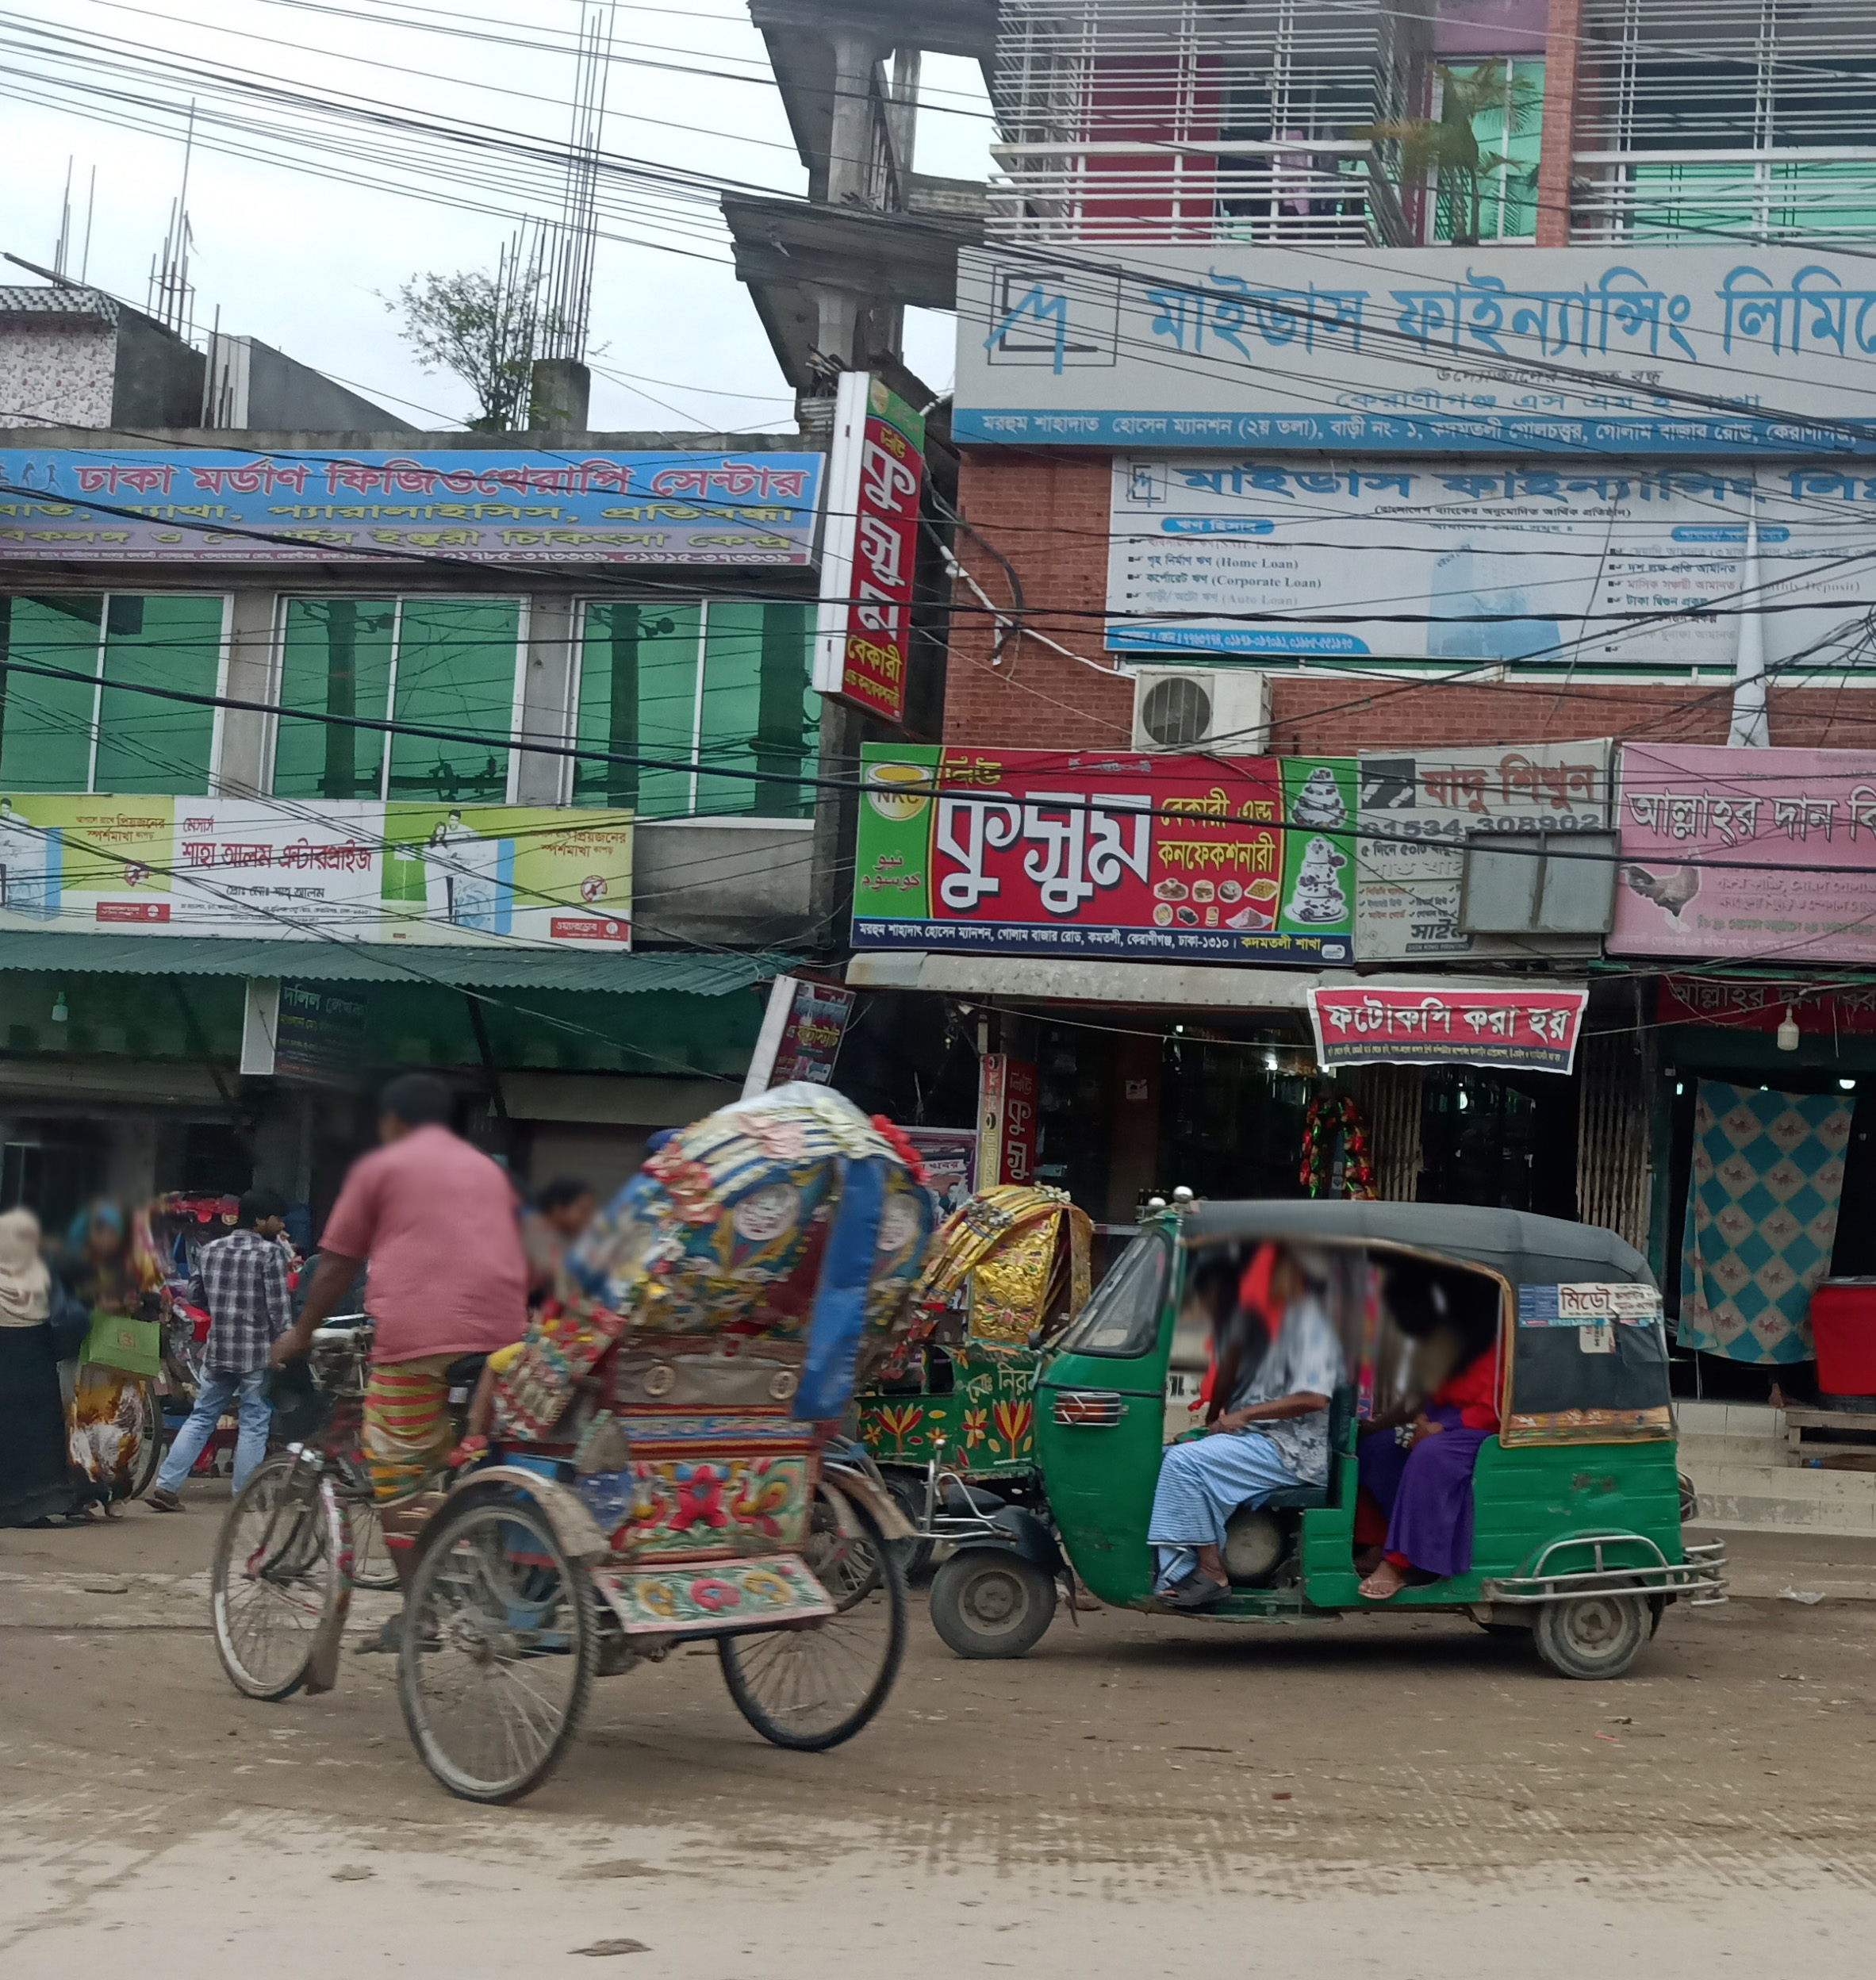cng: (887, 1176, 1744, 1679)
rickshaw: (187, 1068, 945, 1807), (829, 1141, 1118, 1543), (125, 1144, 337, 1497)
